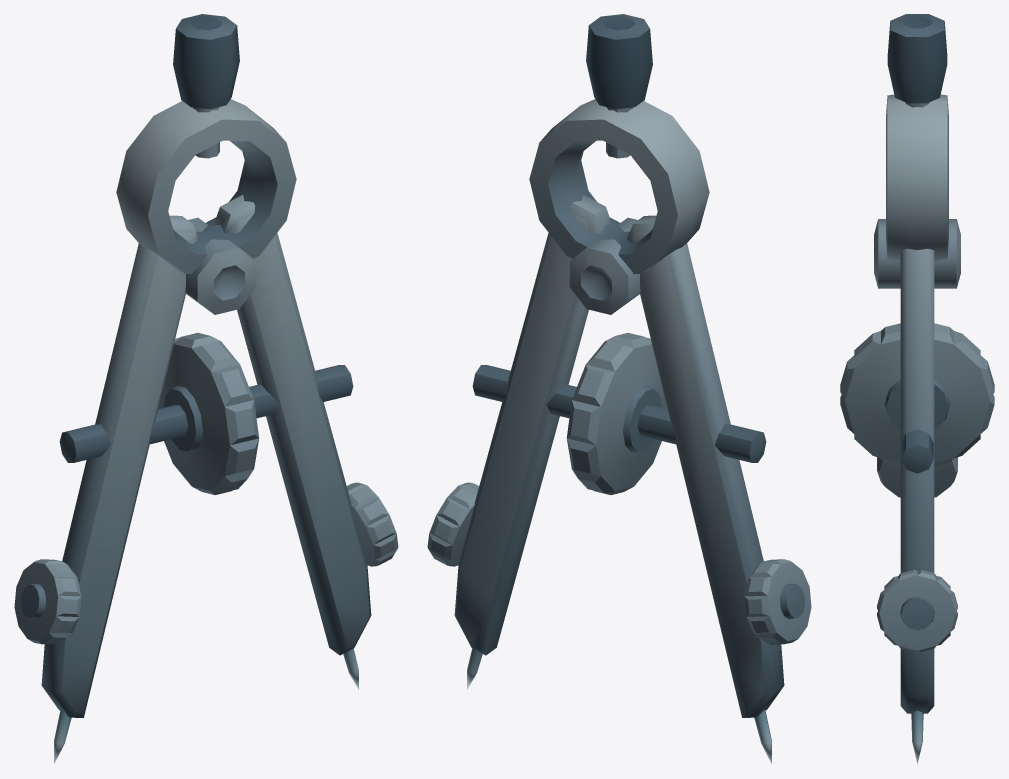
The model's file is prop-compass.glb.
The picture shows the model from 3 angles, left to right: view 1: azimuth 30°, elevation 25°; view 2: azimuth 150°, elevation 25°; view 3: azimuth 270°, elevation 25°; orthographic projection. The views are drawn at different scales.
Parts seen in each view (by area): view 1: drafting_compass, drafting_compass_legRight, drafting_compass_legLeft, drafting_compass_wheel; view 2: drafting_compass, drafting_compass_legRight, drafting_compass_legLeft, drafting_compass_wheel; view 3: drafting_compass, drafting_compass_legLeft, drafting_compass_wheel, drafting_compass_legRight.
Part boxes in pixels (left/top/right/bottom): drafting_compass: left=59, top=14, right=353, bottom=462; drafting_compass_legRight: left=14, top=215, right=198, bottom=763; drafting_compass_legLeft: left=214, top=195, right=398, bottom=689; drafting_compass_wheel: left=158, top=332, right=259, bottom=494; drafting_compass: left=472, top=14, right=766, bottom=462; drafting_compass_legRight: left=627, top=215, right=811, bottom=763; drafting_compass_legLeft: left=427, top=195, right=611, bottom=689; drafting_compass_wheel: left=566, top=332, right=667, bottom=494; drafting_compass: left=874, top=14, right=960, bottom=473; drafting_compass_legLeft: left=877, top=248, right=957, bottom=764; drafting_compass_wheel: left=840, top=323, right=994, bottom=465; drafting_compass_legRight: left=877, top=457, right=957, bottom=497.
Size of the model in its own units: 0.4578 by 0.8542 by 0.1776.
1 material, 1 textured.
